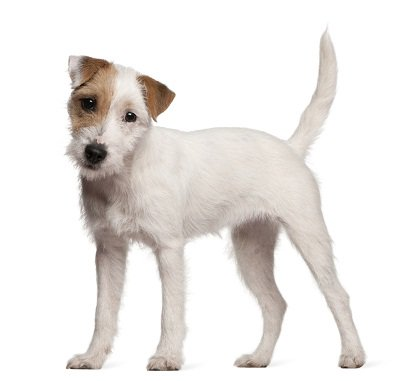tail: (287, 24, 345, 171)
